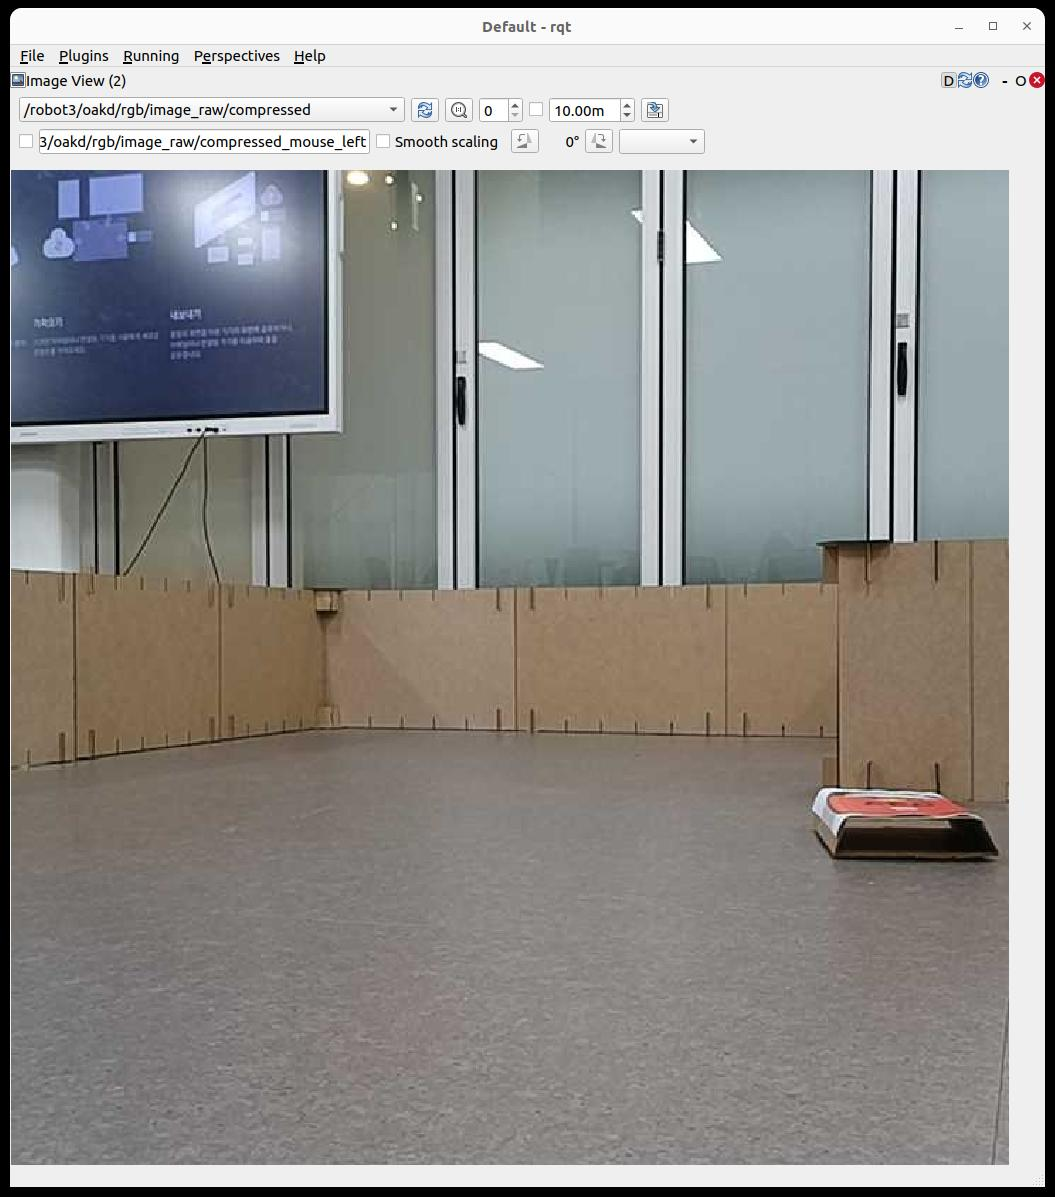AED: (830, 792, 958, 816)
